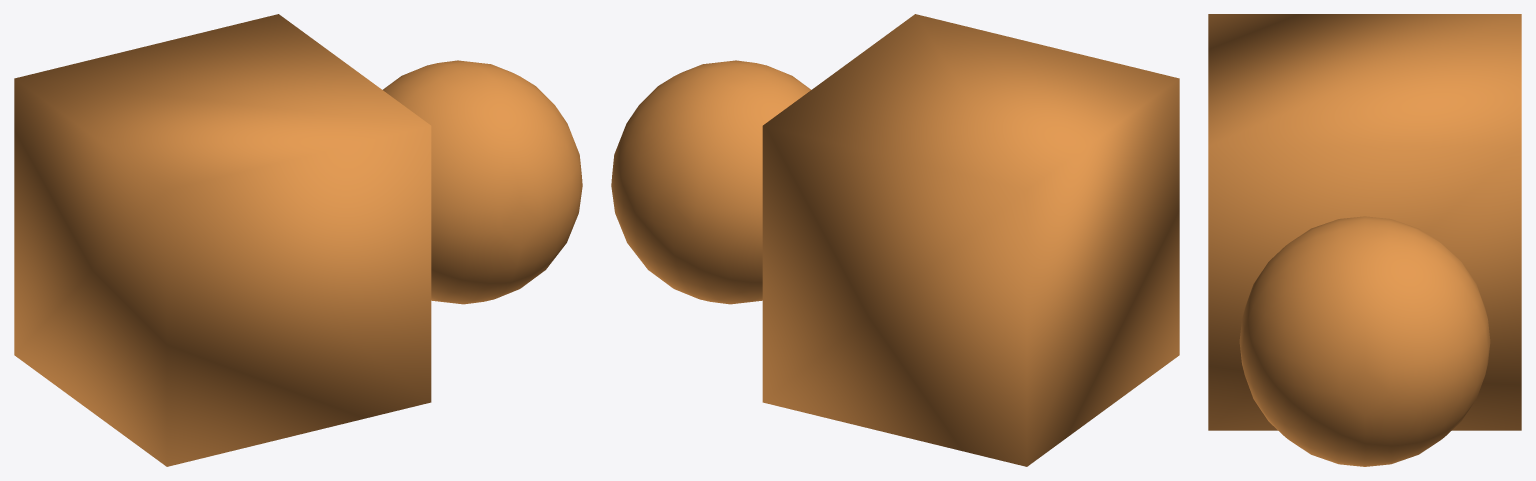
Rendered from expected.gltf.
3 renders of one model, left to right at view 1: azimuth 30°, elevation 25°; view 2: azimuth 150°, elevation 25°; view 3: azimuth 270°, elevation 25°, orthographic. The views are drawn at different scales.
Size of the model in its own units: 36 by 20 by 20.
